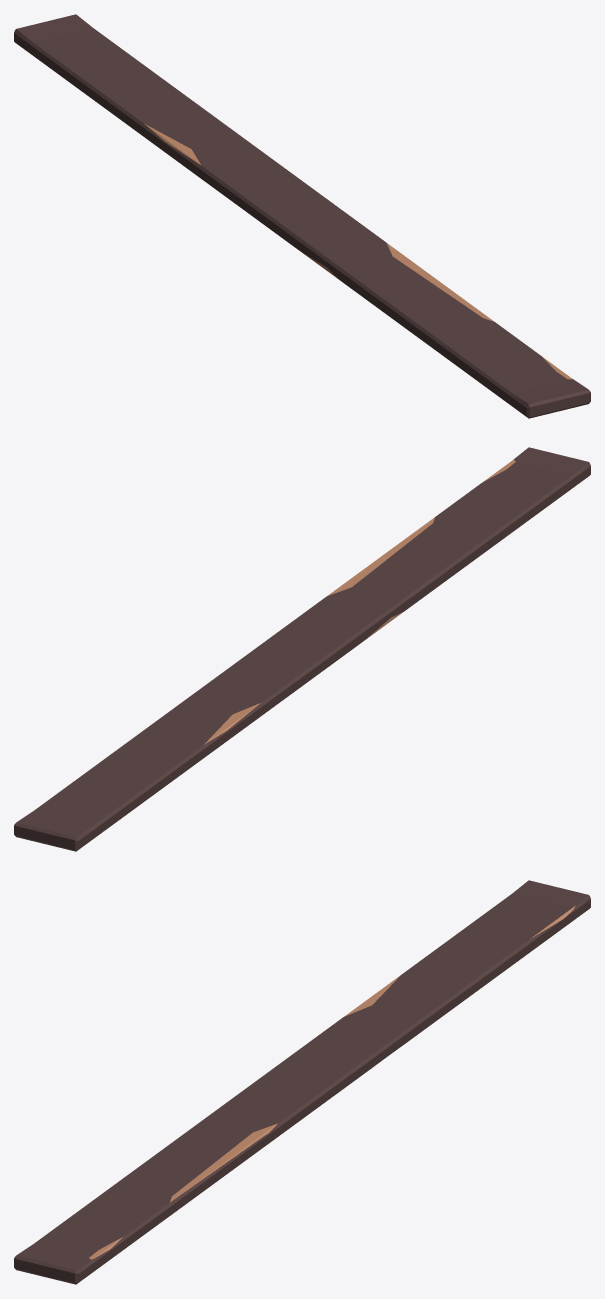
File: wood_1.FBX
3 views of the same model, one above another, from view 1: azimuth 30°, elevation 25°; view 2: azimuth 150°, elevation 25°; view 3: azimuth 330°, elevation 25° (orthographic).
Parts seen in each view (by area): view 1: wood_1; view 2: wood_1; view 3: wood_1.
Part boxes in pixels (x1,y1,x2,y2): wood_1: (14,14,590,418); wood_1: (14,447,590,851); wood_1: (14,880,590,1284).
Bounding box in the file's own units: 19.09 × 4.14 × 265.
